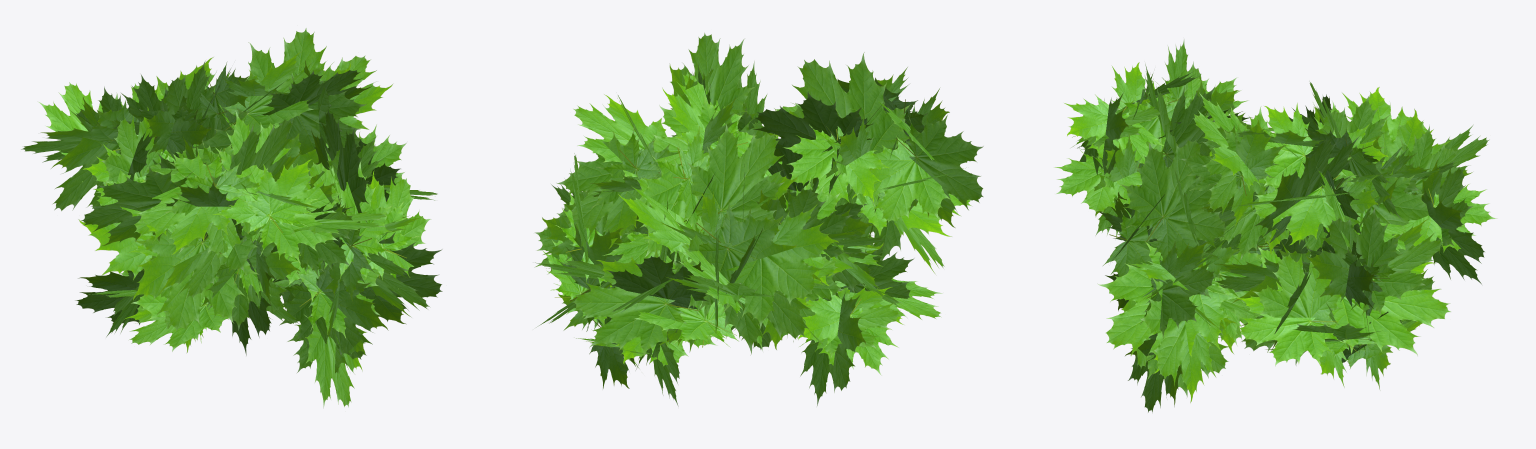
File: leaves.glb
3 views of the same model, side by side, from view 1: azimuth 30°, elevation 25°; view 2: azimuth 150°, elevation 25°; view 3: azimuth 270°, elevation 25° (orthographic). The views are drawn at different scales.
Visible parts, largest first — view 1: leaves.001; view 2: leaves.001; view 3: leaves.001.
Part boxes in pixels (left/top/right/bottom): leaves.001: left=21, top=28, right=442, bottom=407; leaves.001: left=534, top=33, right=983, bottom=406; leaves.001: left=1054, top=39, right=1496, bottom=412.
Bounding box in the file's own units: 2.15 × 1.65 × 2.15.
1 material, 1 textured.
